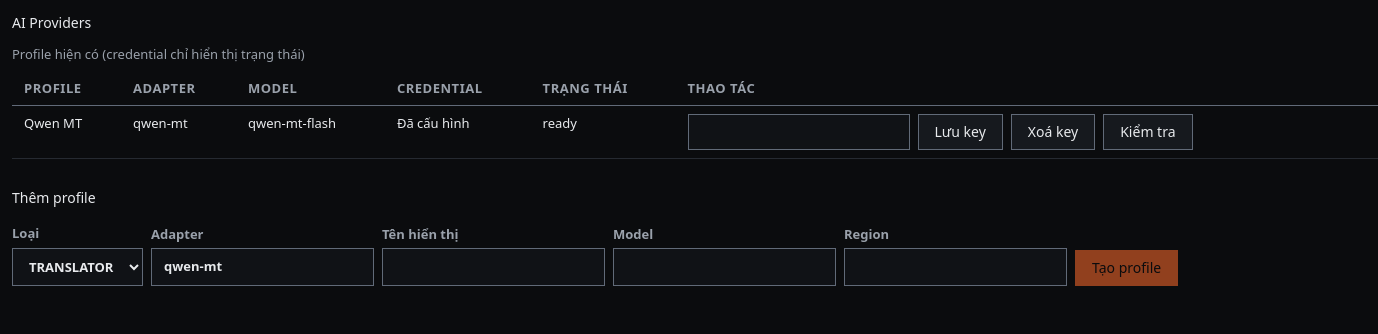
Test case: ProfileEditor (U08 part 2) › never sends an empty credential
Click the button "Lưu key".
click(960, 132)  # box [918,114,1003,150]
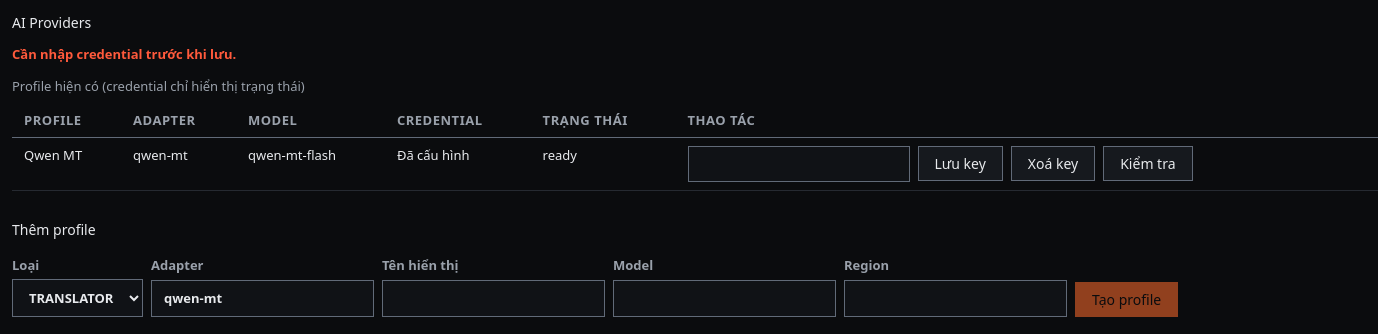
Result: the message shows "Cần nhập credential" at [12,45,236,63]
